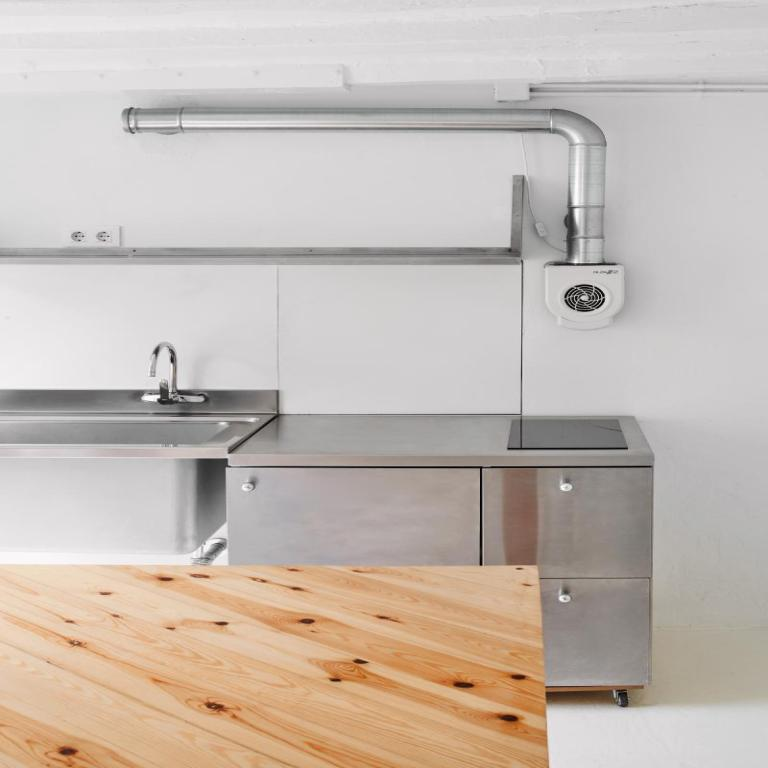white-walls: (544, 337, 755, 616)
